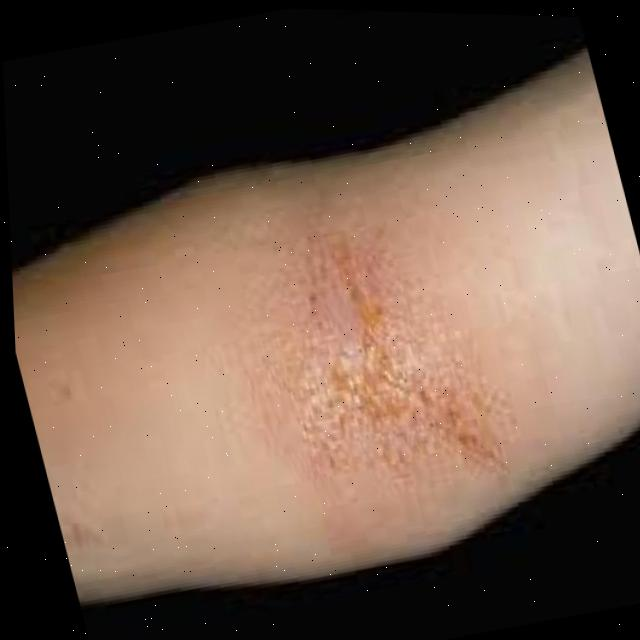Eczema: (268, 241, 496, 479)
